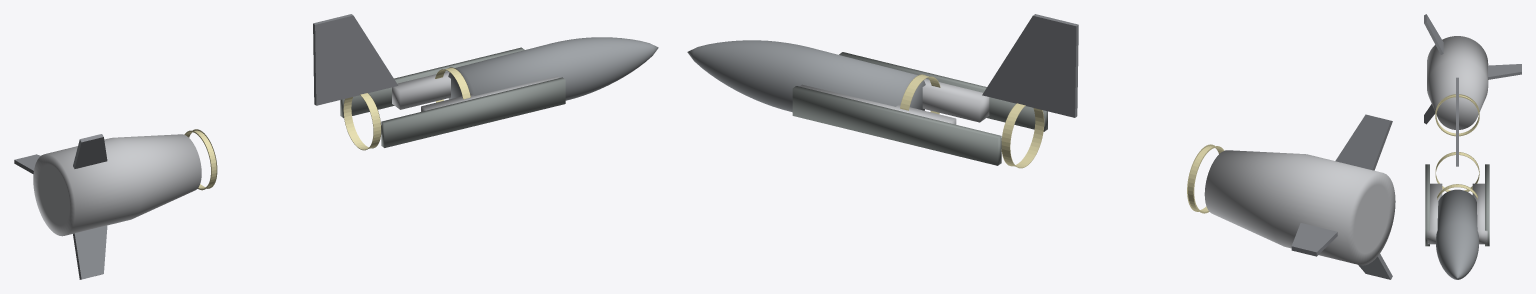
Rendered from RU_ASM_P700_LOD0.fbx.
The picture shows the model from 3 angles, left to right: view 1: azimuth 30°, elevation 25°; view 2: azimuth 150°, elevation 25°; view 3: azimuth 270°, elevation 25°; orthographic projection. The views are drawn at different scales.
Parts seen in each view (by area): view 1: WPN_RU_ASM_P700_LOD0_Tail, WPN_RU_ASM_P700_LOD0_Body, WPN_RU_ASM_P700_LOD0_Nose, WPN_RU_ASM_P700_LOD0_Wings, WPN_RU_ASM_P700_LOD0_Fins, WPN_RU_ASM_P700_LOD0_Detail, WPN_RU_ASM_P700_LOD0_Marking; view 2: WPN_RU_ASM_P700_LOD0_Tail, WPN_RU_ASM_P700_LOD0_Body, WPN_RU_ASM_P700_LOD0_Nose, WPN_RU_ASM_P700_LOD0_Wings, WPN_RU_ASM_P700_LOD0_Fins, WPN_RU_ASM_P700_LOD0_Detail, WPN_RU_ASM_P700_LOD0_Marking; view 3: WPN_RU_ASM_P700_LOD0_Tail, WPN_RU_ASM_P700_LOD0_Body, WPN_RU_ASM_P700_LOD0_Detail, WPN_RU_ASM_P700_LOD0_Fins, WPN_RU_ASM_P700_LOD0_Nose, WPN_RU_ASM_P700_LOD0_Marking, WPN_RU_ASM_P700_LOD0_Wings.
Boxes of the visible parts, left/top/right/bottom form: WPN_RU_ASM_P700_LOD0_Tail: left=33, top=134, right=201, bottom=236; WPN_RU_ASM_P700_LOD0_Body: left=448, top=37, right=658, bottom=100; WPN_RU_ASM_P700_LOD0_Nose: left=340, top=47, right=565, bottom=147; WPN_RU_ASM_P700_LOD0_Wings: left=313, top=14, right=398, bottom=105; WPN_RU_ASM_P700_LOD0_Fins: left=14, top=134, right=107, bottom=279; WPN_RU_ASM_P700_LOD0_Detail: left=392, top=71, right=558, bottom=111; WPN_RU_ASM_P700_LOD0_Marking: left=184, top=67, right=470, bottom=190; WPN_RU_ASM_P700_LOD0_Tail: left=1204, top=150, right=1395, bottom=265; WPN_RU_ASM_P700_LOD0_Body: left=687, top=40, right=925, bottom=112; WPN_RU_ASM_P700_LOD0_Nose: left=792, top=52, right=1047, bottom=165; WPN_RU_ASM_P700_LOD0_Wings: left=982, top=14, right=1078, bottom=117; WPN_RU_ASM_P700_LOD0_Fins: left=1291, top=114, right=1392, bottom=279; WPN_RU_ASM_P700_LOD0_Detail: left=800, top=79, right=989, bottom=124; WPN_RU_ASM_P700_LOD0_Marking: left=900, top=74, right=1224, bottom=213; WPN_RU_ASM_P700_LOD0_Tail: left=1427, top=36, right=1488, bottom=129; WPN_RU_ASM_P700_LOD0_Body: left=1436, top=189, right=1478, bottom=279; WPN_RU_ASM_P700_LOD0_Detail: left=1427, top=183, right=1487, bottom=244; WPN_RU_ASM_P700_LOD0_Fins: left=1424, top=14, right=1521, bottom=124; WPN_RU_ASM_P700_LOD0_Nose: left=1425, top=164, right=1489, bottom=246; WPN_RU_ASM_P700_LOD0_Marking: left=1435, top=94, right=1479, bottom=199; WPN_RU_ASM_P700_LOD0_Wings: left=1456, top=77, right=1458, bottom=166.
Size of the model in its own units: 10 by 1.93 by 2.82.
